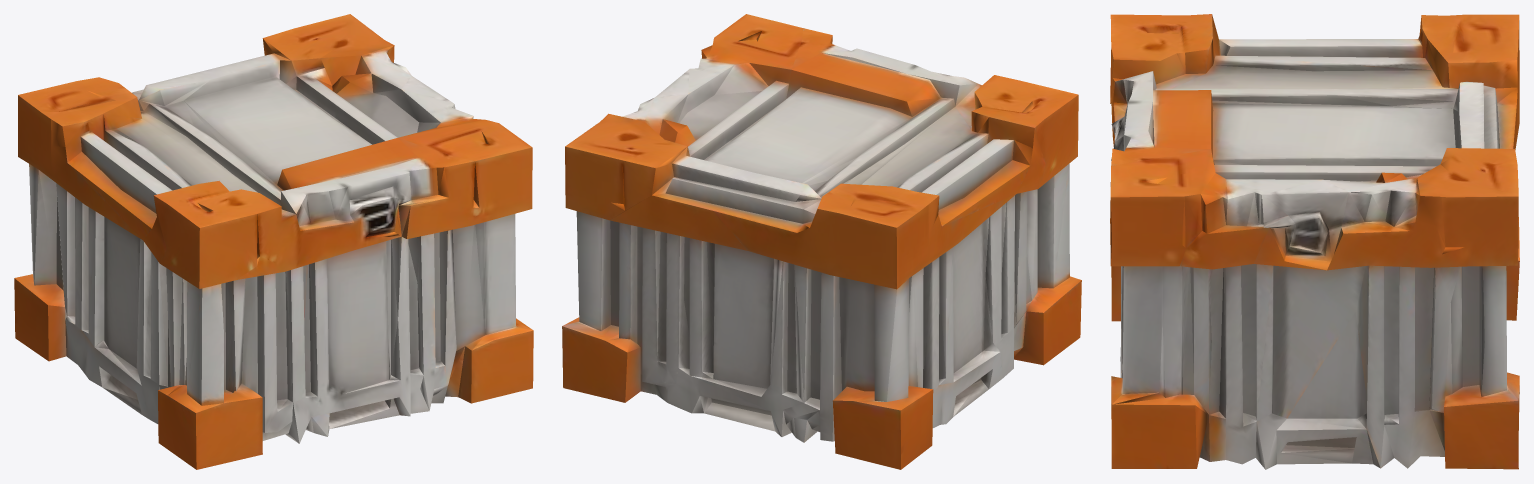
Rendered from researchCrate.glb.
3 renders of one model, left to right at view 1: azimuth 30°, elevation 25°; view 2: azimuth 150°, elevation 25°; view 3: azimuth 270°, elevation 25°, orthographic. The views are drawn at different scales.
Visible parts, largest first — view 1: model; view 2: model; view 3: model.
Part boxes in pixels (x1=…): model: x1=14, y1=14, x2=533, y2=469; model: x1=562, y1=14, x2=1081, y2=469; model: x1=1110, y1=14, x2=1519, y2=469.
Bounding box in the file's own units: 1.9 × 1.32 × 1.77.
Materials: 1 (1 with a texture image).
